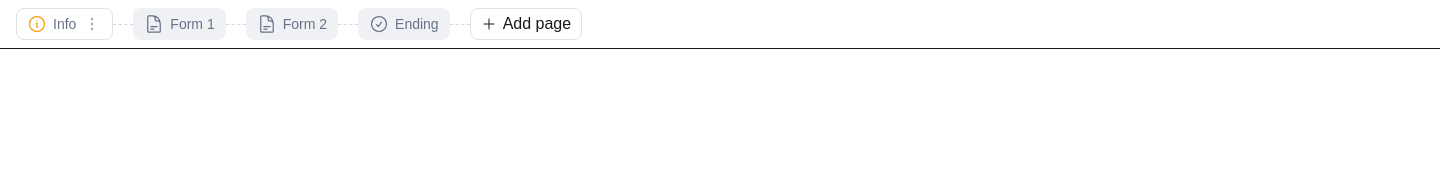
PageStepsBar › should open context menu on icon click
The width and height of the screenshot is (1440, 194).
What coordinates should you click on to do the following:
click the button "Form 1"
I would click on:
 (180, 24)
Its box is [133,8,226,40].
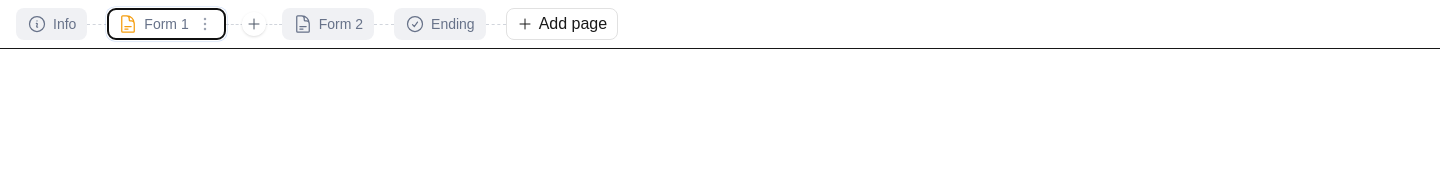
What coordinates should you click on to do the following:
click the 1st icon named "form-icon"
I would click on:
 (128, 24)
Its box is [118,14,138,34].
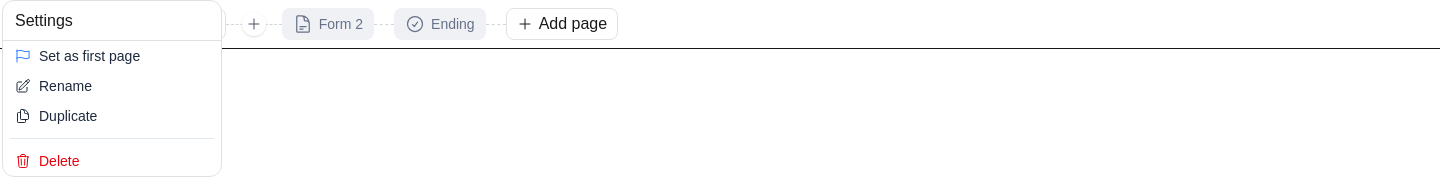
Check: the menu item "Duplicate" is shown, box [15,108,97,124]
